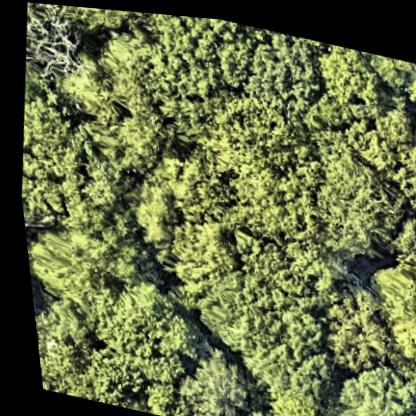tree-top: (192, 243, 348, 416), (293, 136, 406, 266), (130, 9, 251, 130), (73, 269, 193, 390), (8, 91, 92, 238), (215, 15, 317, 121), (19, 219, 124, 314), (192, 85, 296, 180), (87, 25, 188, 120), (302, 278, 391, 376), (149, 212, 238, 302), (216, 156, 302, 242), (348, 248, 416, 356), (160, 339, 254, 416), (91, 102, 175, 180), (309, 37, 387, 119), (318, 351, 416, 416), (17, 2, 85, 91), (115, 173, 181, 249), (163, 153, 227, 225), (29, 332, 95, 400), (67, 147, 132, 212), (25, 2, 134, 40), (383, 110, 416, 211), (363, 92, 416, 149), (261, 385, 333, 416), (400, 55, 416, 103), (386, 413, 416, 416)
